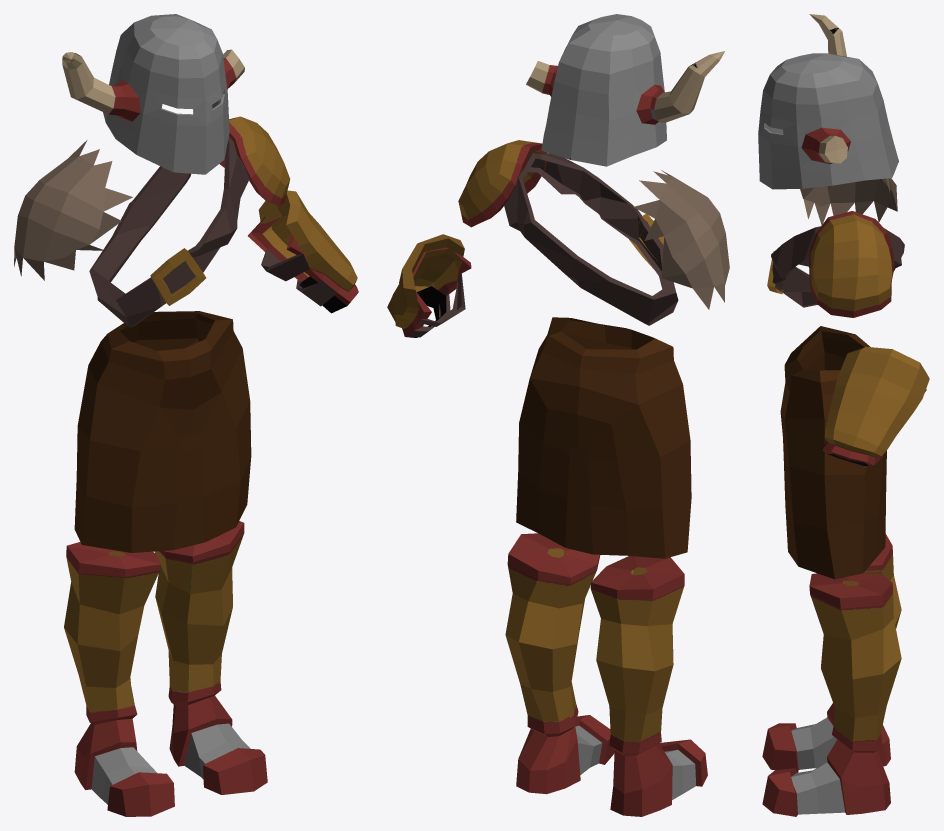
The model's file is armor.FBX.
3 views of the same model, side by side, from view 1: azimuth 30°, elevation 25°; view 2: azimuth 150°, elevation 25°; view 3: azimuth 270°, elevation 25° (orthographic). The views are drawn at different scales.
Visible parts, largest first — view 1: Zuplin_LB_Dress, Zuplin_Foot_Armored Boots, Zuplin_Armor, Zuplin_Helmet, Zuplin_Hand_Armored HandL; view 2: Zuplin_Foot_Armored Boots, Zuplin_LB_Dress, Zuplin_Armor, Zuplin_Helmet, Zuplin_Hand_Armored HandL; view 3: Zuplin_Foot_Armored Boots, Zuplin_LB_Dress, Zuplin_Helmet, Zuplin_Armor, Zuplin_Hand_Armored HandL.
Boxes of the visible parts, box(x1,y1,x2,y2) form: Zuplin_LB_Dress: box(74, 311, 251, 552); Zuplin_Foot_Armored Boots: box(64, 521, 267, 816); Zuplin_Armor: box(14, 116, 290, 327); Zuplin_Helmet: box(62, 14, 244, 174); Zuplin_Hand_Armored HandL: box(248, 190, 358, 313); Zuplin_Foot_Armored Boots: box(505, 533, 707, 816); Zuplin_LB_Dress: box(516, 317, 691, 558); Zuplin_Armor: box(458, 140, 729, 325); Zuplin_Helmet: box(526, 14, 724, 166); Zuplin_Hand_Armored HandL: box(387, 234, 471, 337); Zuplin_Foot_Armored Boots: box(762, 534, 901, 816); Zuplin_LB_Dress: box(780, 326, 886, 579); Zuplin_Helmet: box(758, 14, 898, 189); Zuplin_Armor: box(767, 178, 904, 317); Zuplin_Hand_Armored HandL: box(822, 346, 929, 465).
Bounding box in the file's own units: 0.868 × 1.9 × 0.4084.
5 materials, 5 textured.
